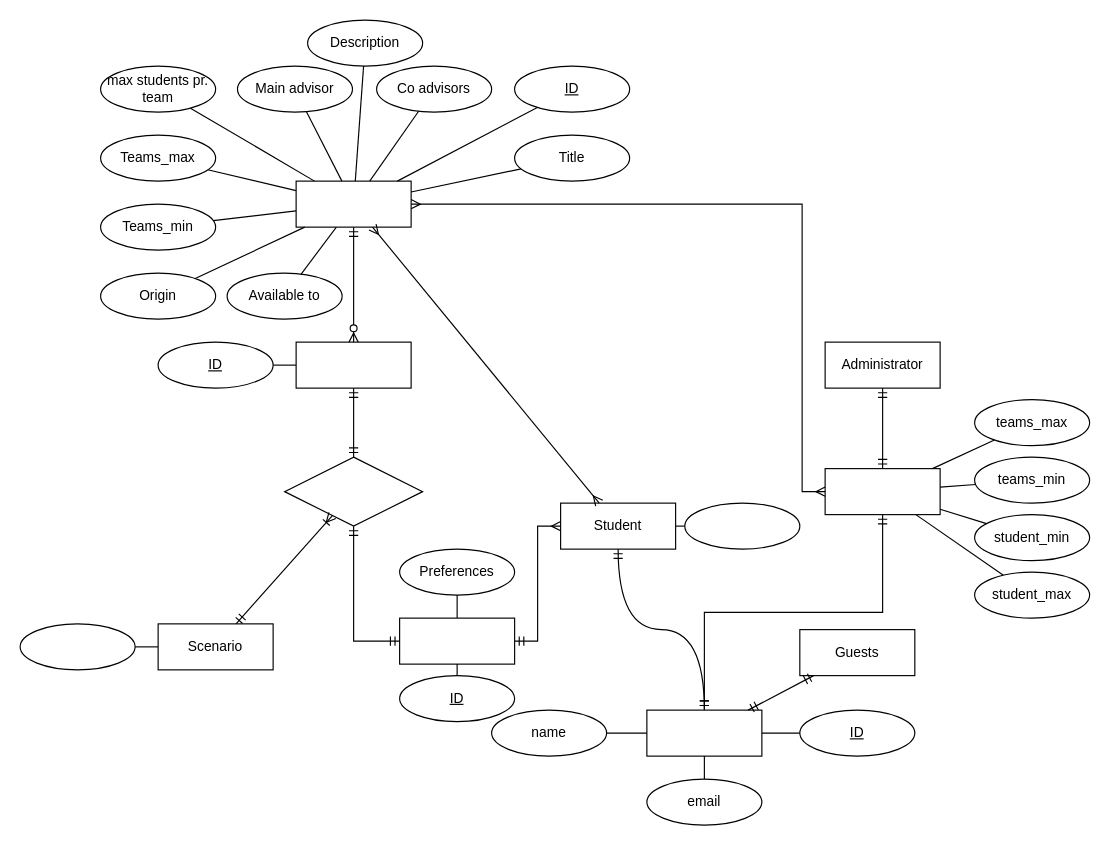
This 1110x845 diagram has some shape labels left out. Here are the shapes that lost their labels. From the top down, the centre of each, then its label:
point (353, 203): Topic
point (353, 364): Teams
point (353, 491): Assignment
point (882, 491): Teachers
point (742, 525): type
point (77, 646): tag
point (456, 640): Group
point (704, 732): User
